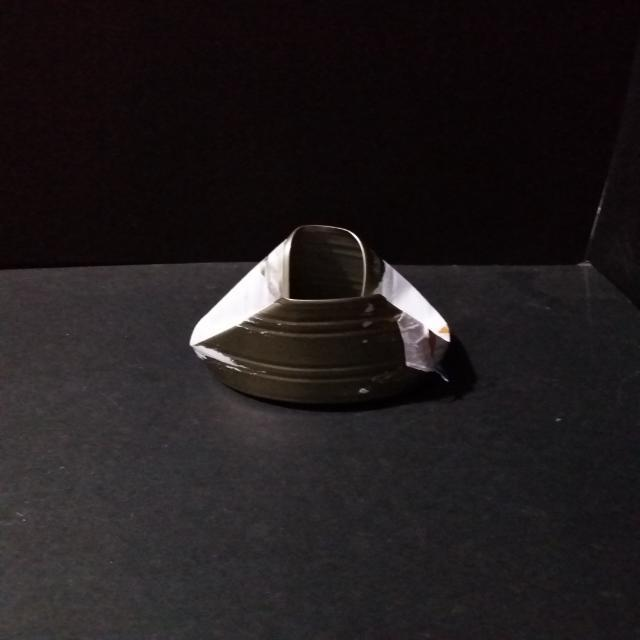metal: (188, 220, 454, 405)
